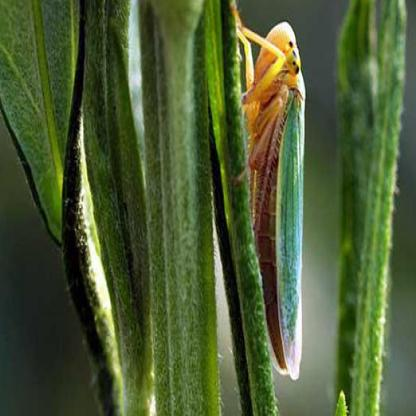Green-Leafhopper: (230, 0, 312, 383)
